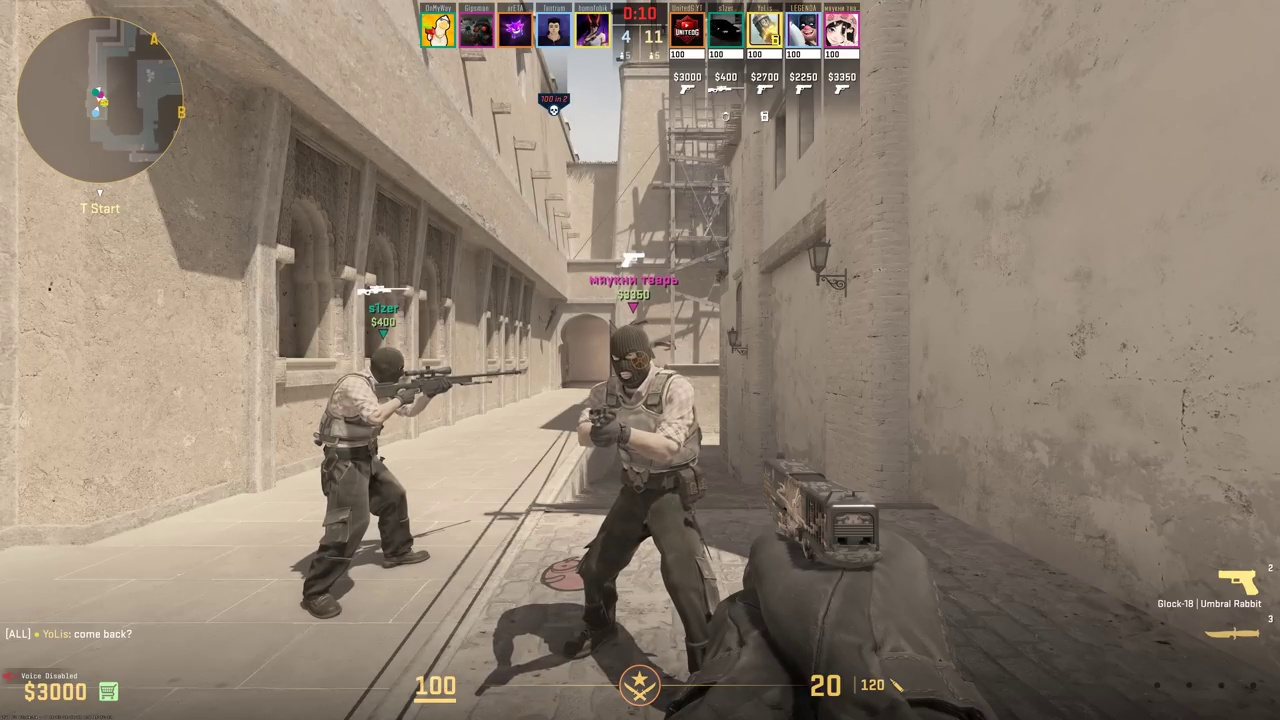Terrorist: (580, 326, 711, 679), (302, 347, 428, 618)
